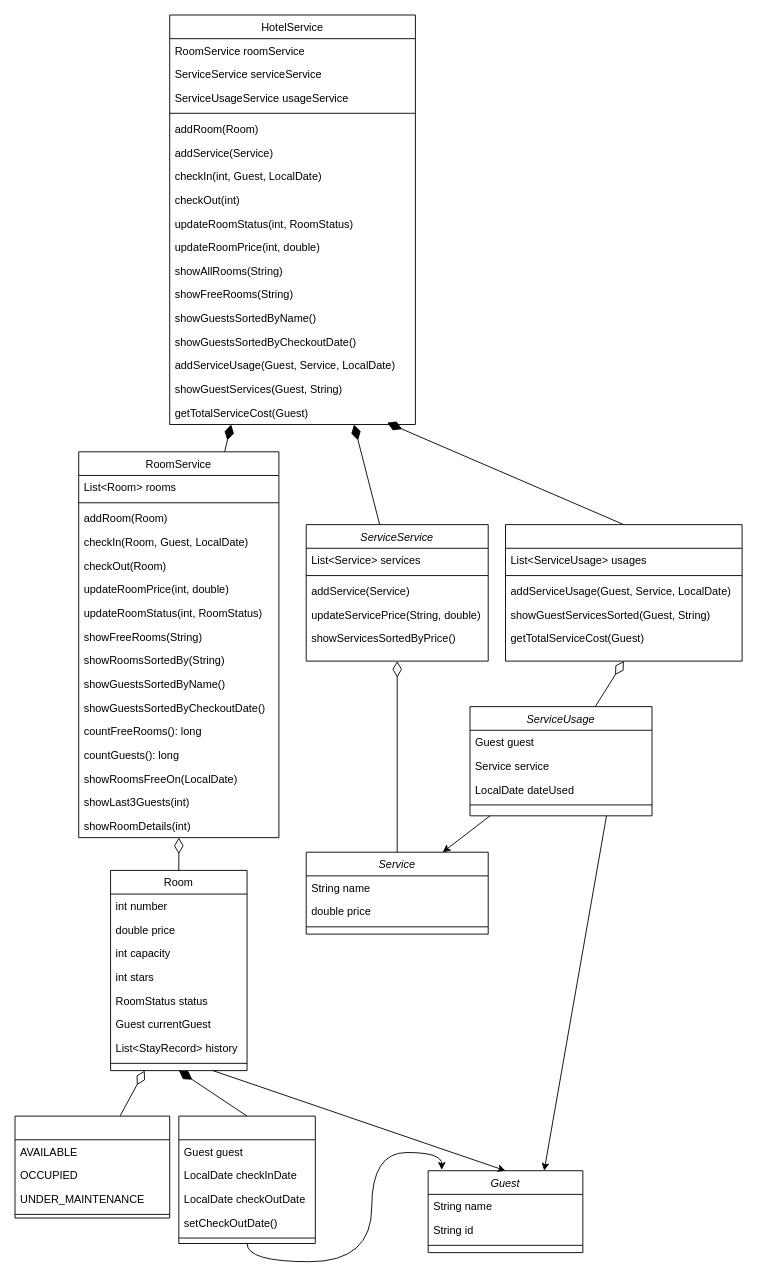
The diagram is 757 pixels wide and 1277 high, and some of its shapes have lost their labels. The shapes that lost their labels are listed below. From the top down, each one's box as (x1, y1, x2, y2) in pixels, then its label:
(505, 524, 742, 661): ServiceUsageService
(14, 1115, 170, 1218): RoomStatus
(178, 1115, 315, 1244): StayRecord
